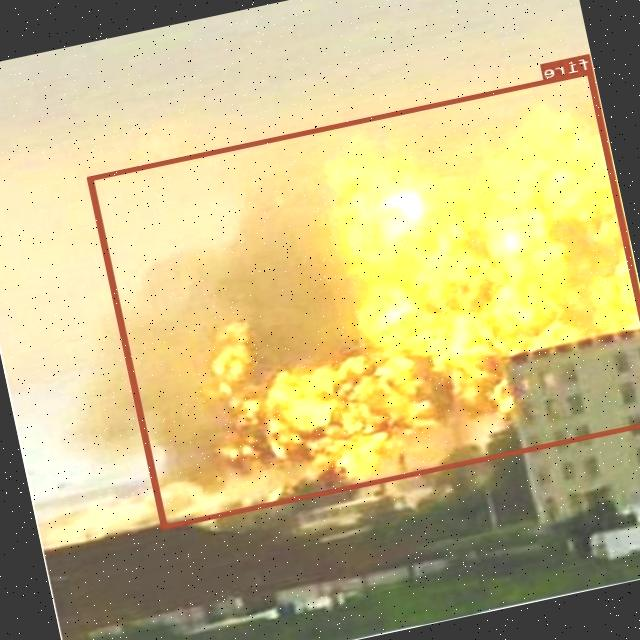fire: (87, 67, 640, 528)
